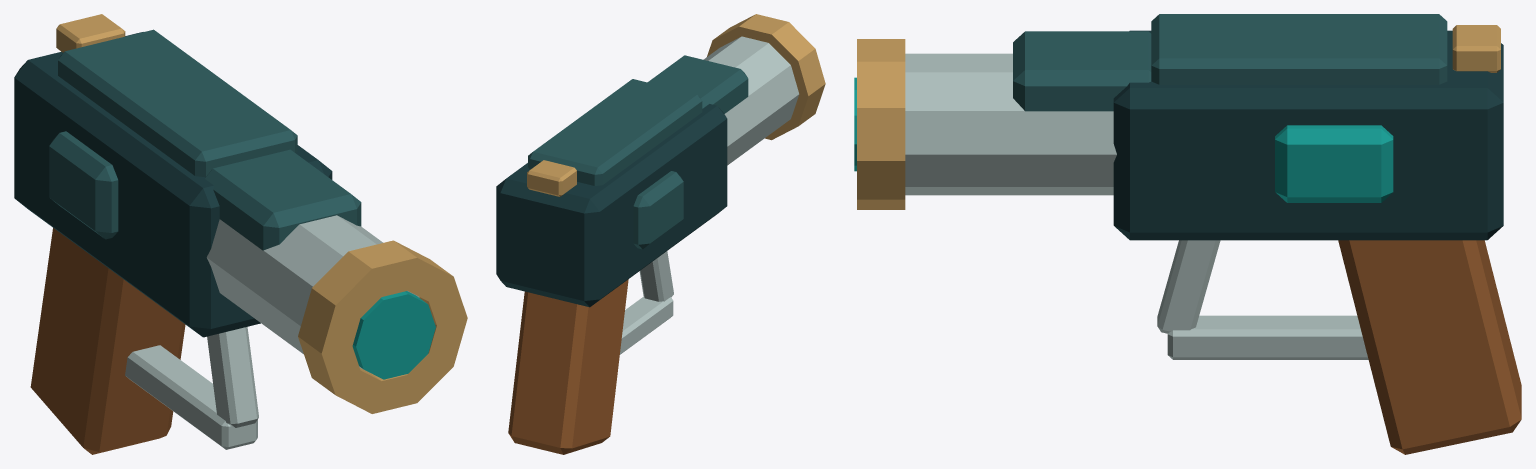
Rendered from aether_sidearm.glb.
3 views of the same model, side by side, from view 1: azimuth 30°, elevation 25°; view 2: azimuth 150°, elevation 25°; view 3: azimuth 270°, elevation 25° (orthographic). The views are drawn at different scales.
Parts seen in each view (by area): view 1: SM_Aether_Sidearm; view 2: SM_Aether_Sidearm; view 3: SM_Aether_Sidearm.
Part boxes in pixels (bbox=[...]): SM_Aether_Sidearm: bbox=[14, 14, 467, 454]; SM_Aether_Sidearm: bbox=[496, 14, 825, 454]; SM_Aether_Sidearm: bbox=[854, 14, 1521, 454].
Bounding box in the file's own units: 0.1163 × 0.2478 × 0.3723.
